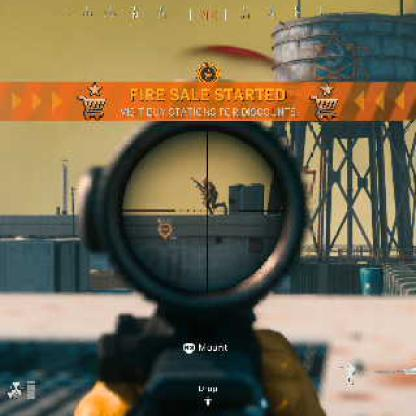enemy: (199, 180, 221, 214)
